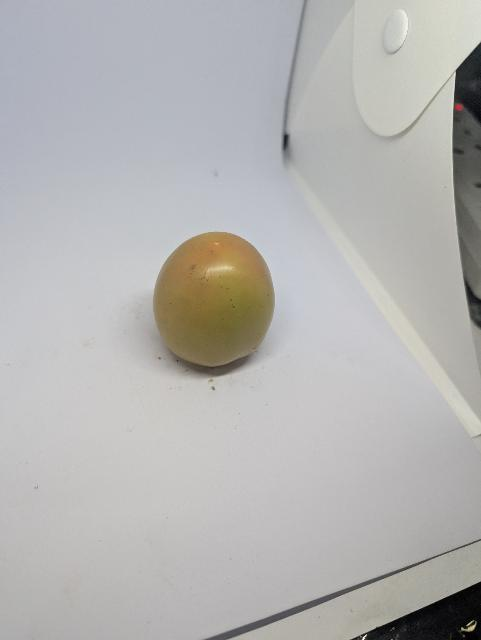breaker: (151, 226, 281, 374)
